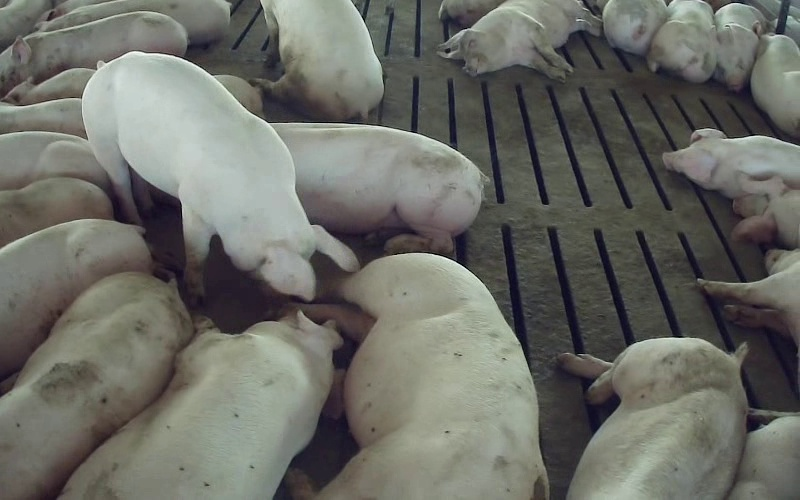pig: (82, 53, 358, 302), (61, 312, 341, 499), (0, 272, 193, 499), (559, 338, 747, 499), (272, 123, 487, 255), (0, 219, 151, 379), (0, 11, 187, 97), (255, 0, 382, 120), (437, 0, 601, 81), (662, 129, 799, 197), (37, 0, 229, 44), (0, 177, 113, 246), (647, 0, 717, 82), (714, 3, 764, 91), (602, 0, 666, 55), (0, 98, 86, 137)
